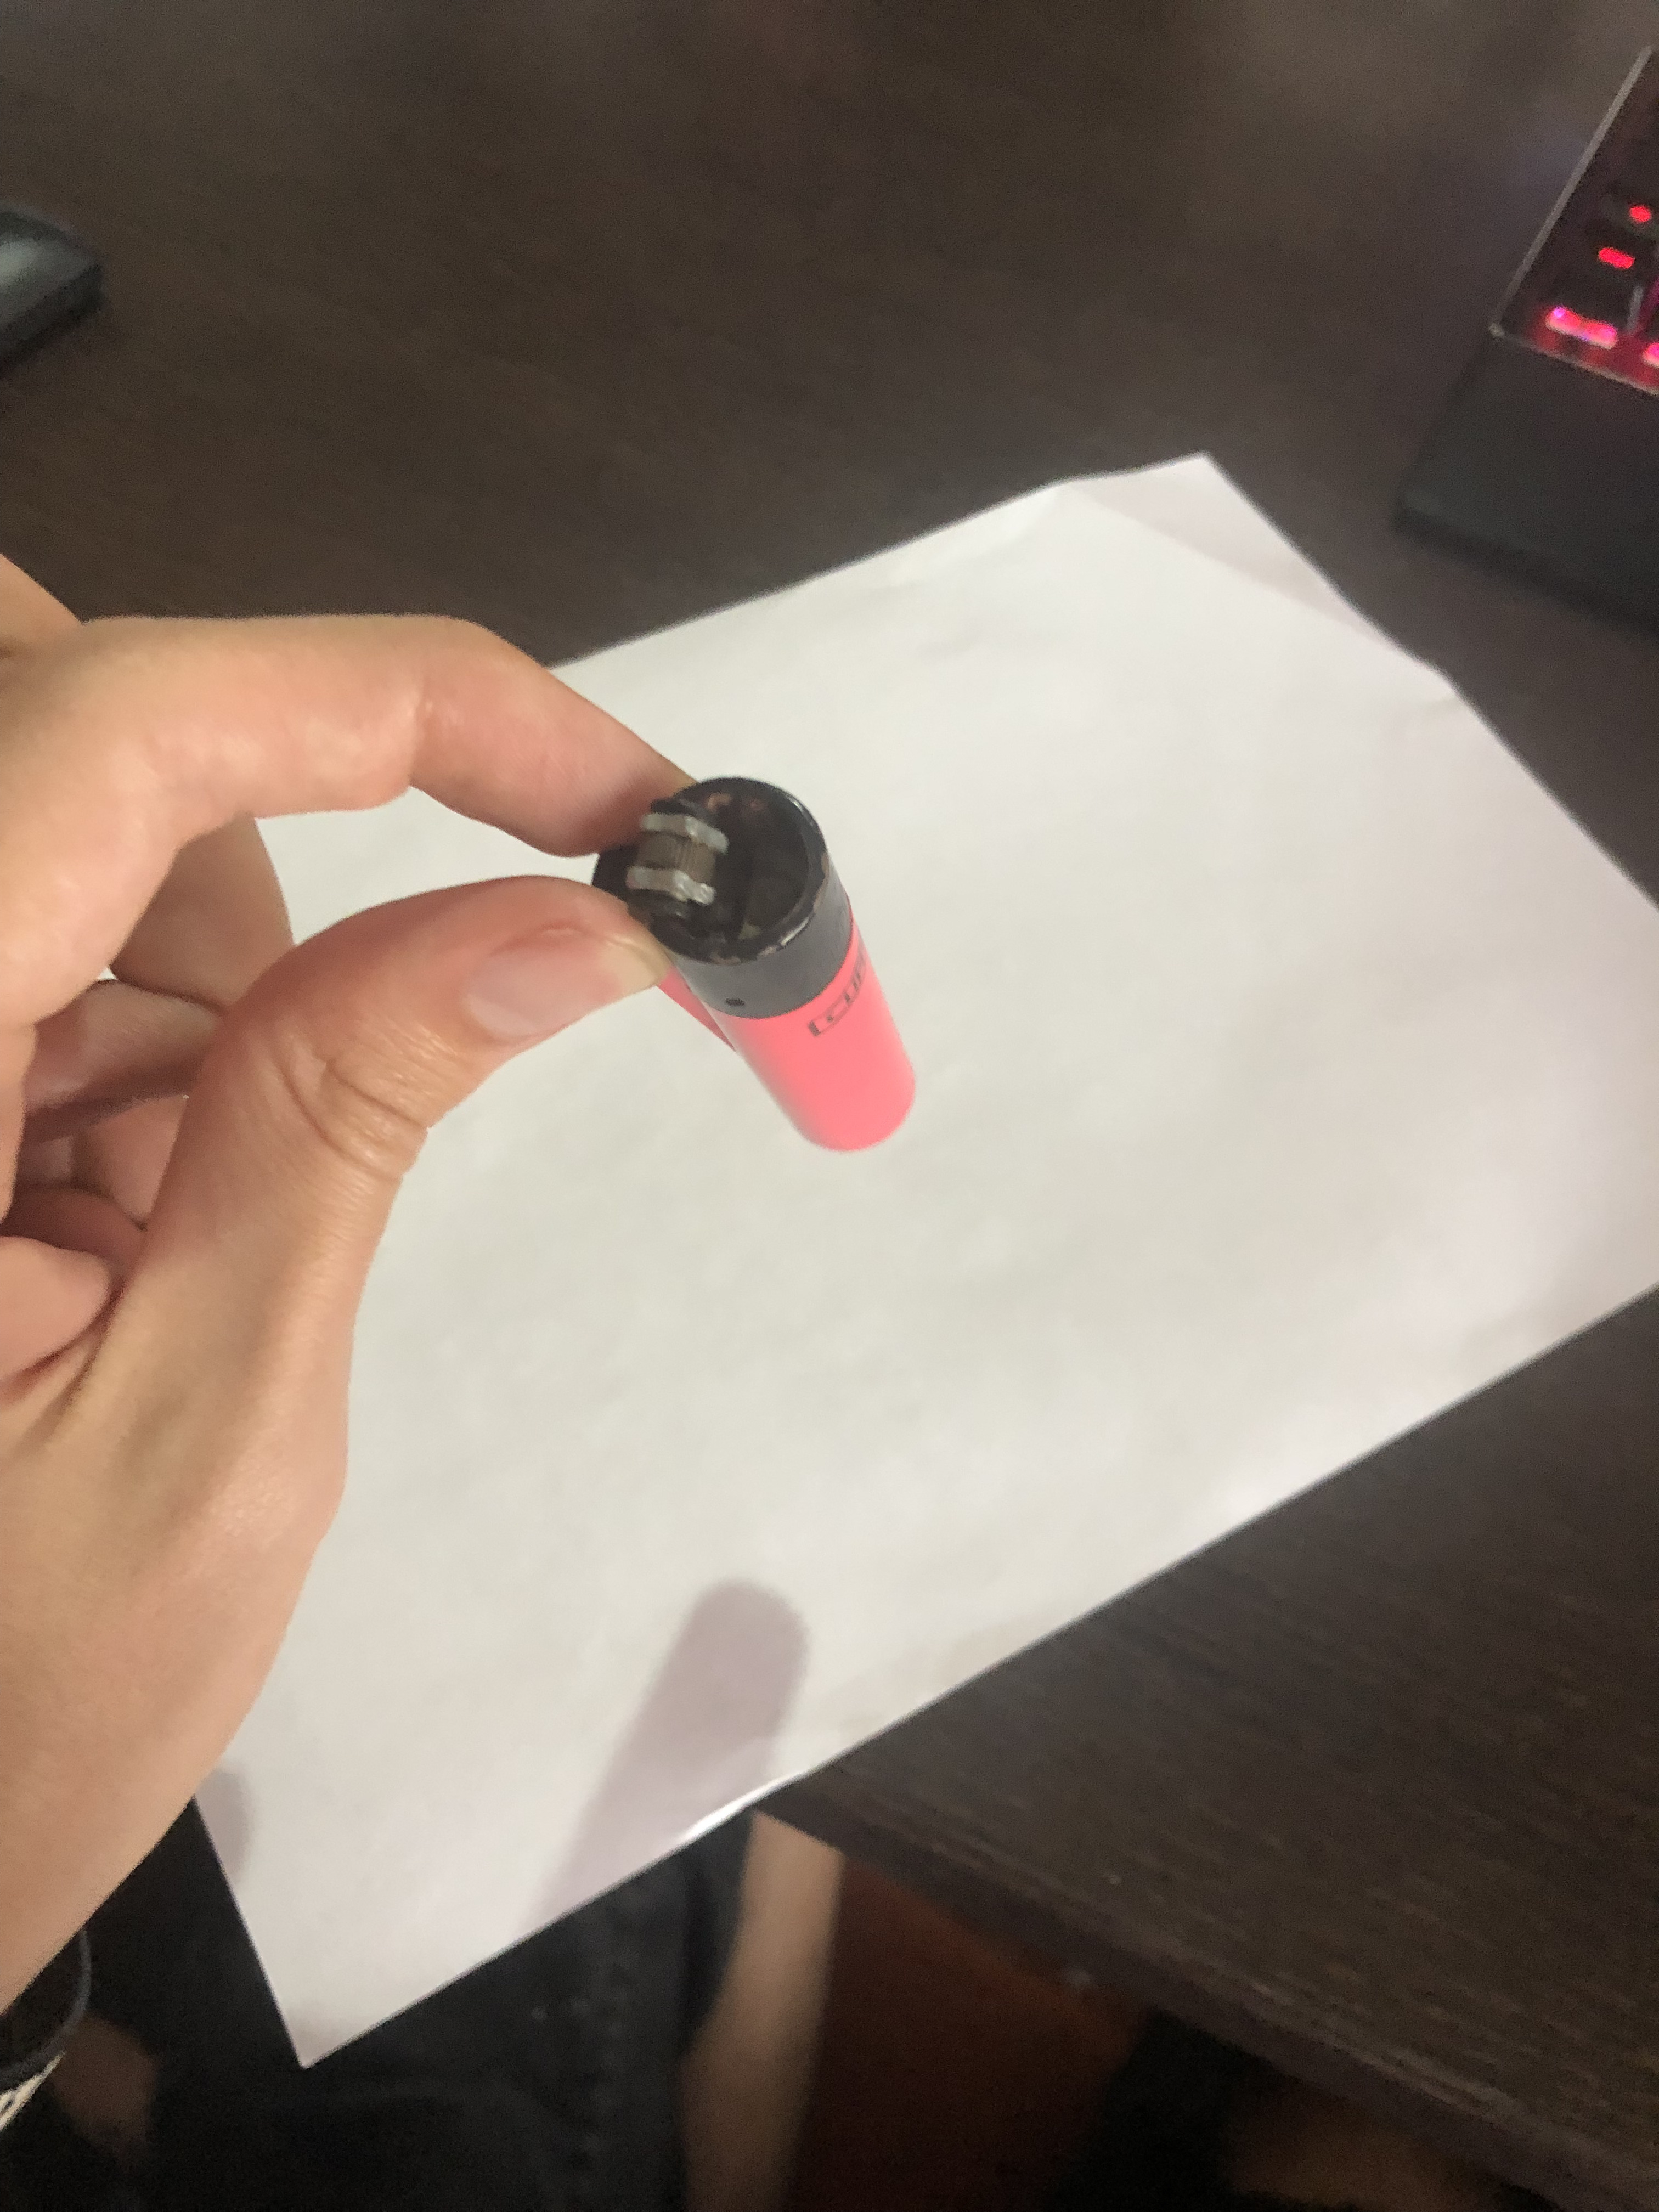Mechero: (563, 735, 934, 1188)
